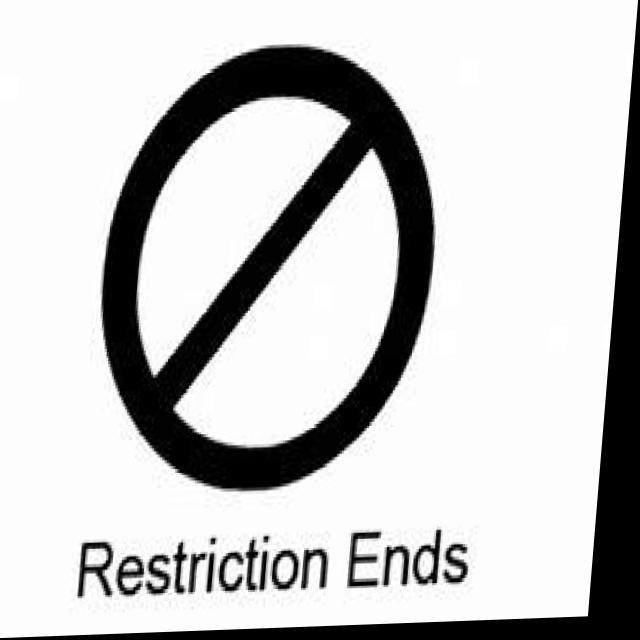RESTRICTION_ENDS: (93, 45, 451, 502)
